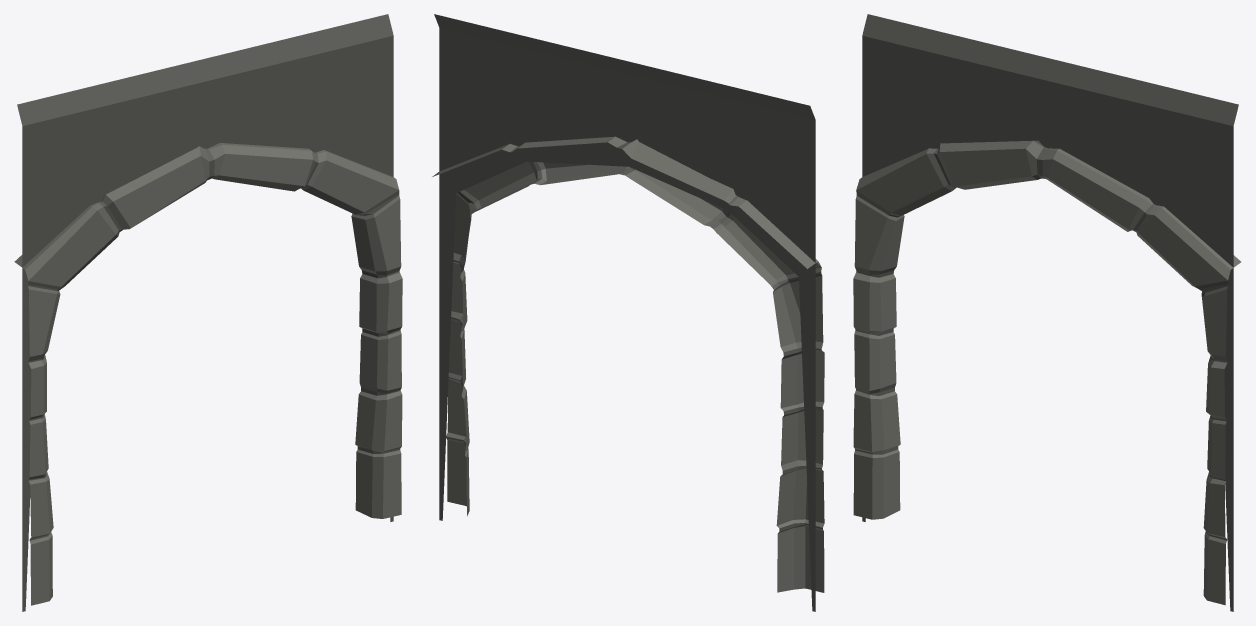
File: Holefix_Single.glb
3 renders of one model, left to right at view 1: azimuth 30°, elevation 25°; view 2: azimuth 150°, elevation 25°; view 3: azimuth 330°, elevation 25°, orthographic.
Parts seen in each view (by area): view 1: Holefix_Single.001; view 2: Holefix_Single.001; view 3: Holefix_Single.001.
Part boxes in pixels (x1,y1,x2,y2): Holefix_Single.001: [14, 14, 402, 611]; Holefix_Single.001: [432, 14, 824, 611]; Holefix_Single.001: [853, 14, 1241, 611].
Size of the model in its own units: 4 by 5.18 by 0.3367.
Materials: 1 (1 with a texture image).
